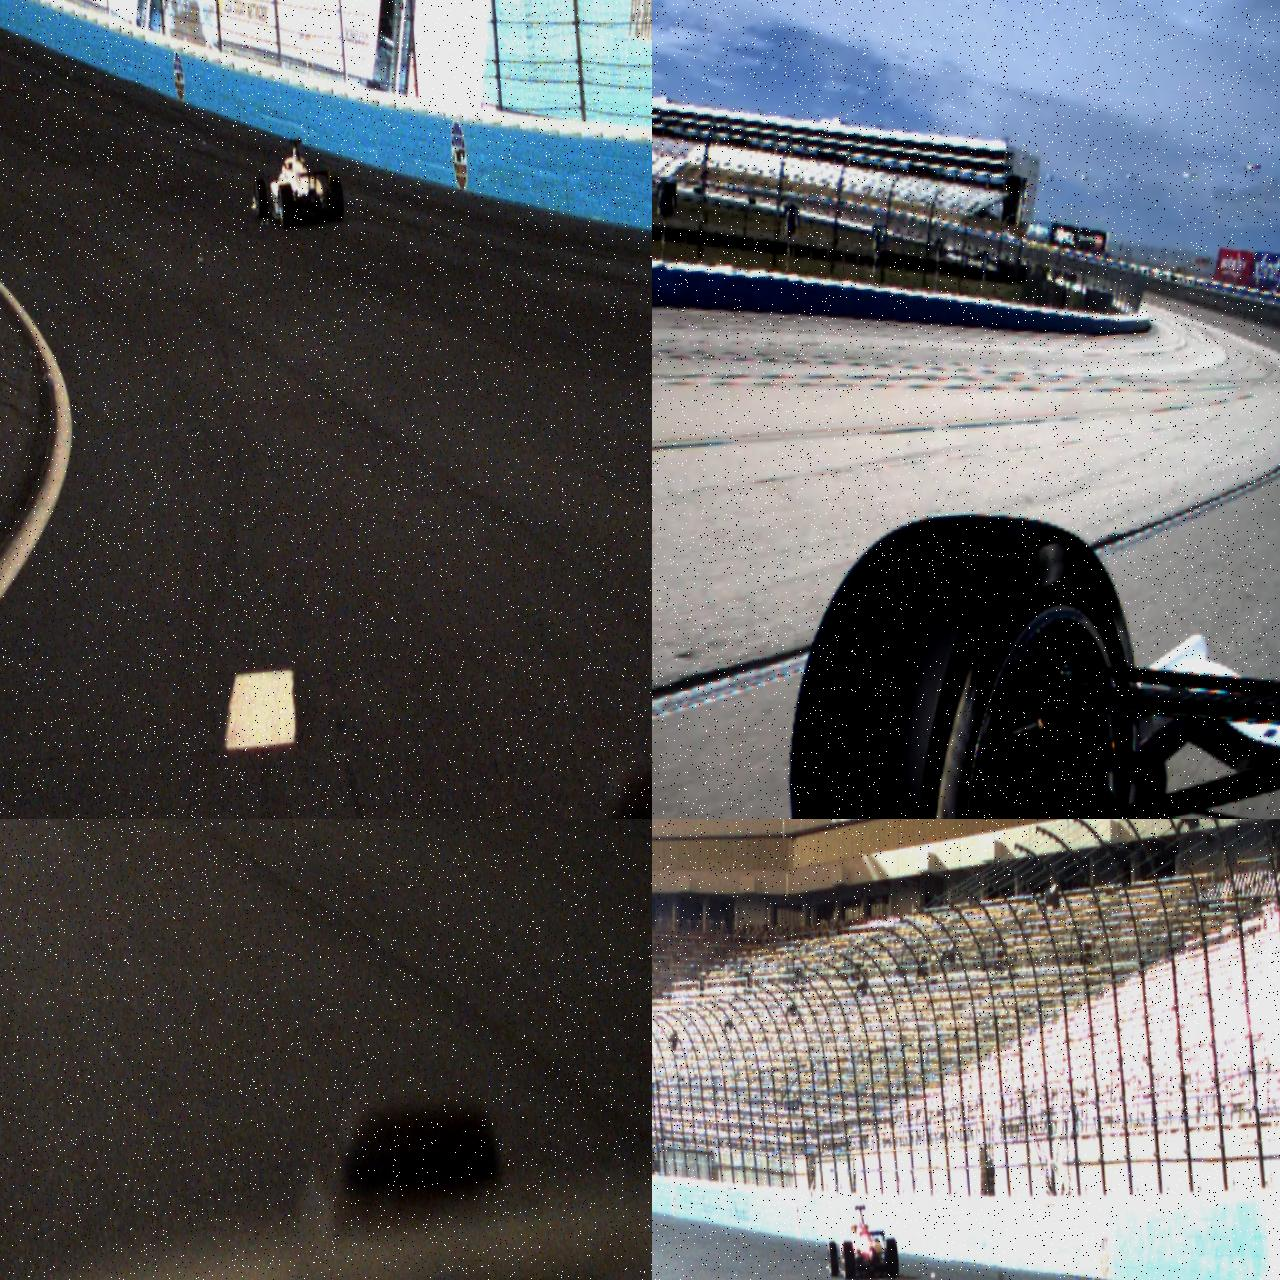AV: (245, 134, 346, 231), (822, 1203, 900, 1280)
Wheel: (771, 501, 1163, 819), (277, 184, 297, 229), (327, 177, 346, 223), (252, 178, 268, 219), (884, 1238, 900, 1276), (843, 1240, 856, 1280), (828, 1241, 839, 1276)
